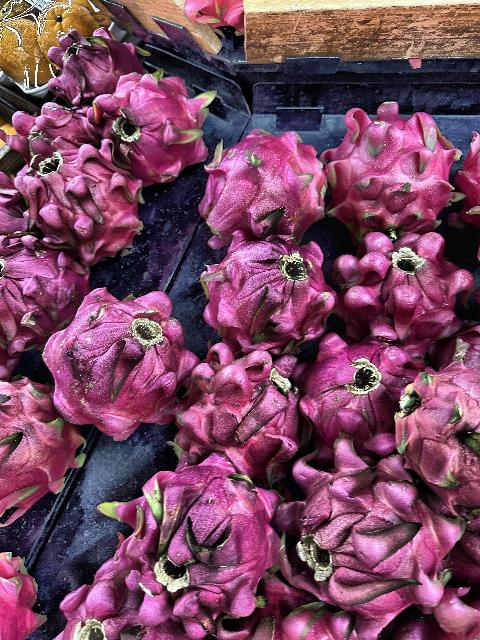buah-naga-matang: (280, 462, 466, 616), (114, 450, 272, 616), (50, 291, 192, 433), (326, 227, 480, 346), (321, 109, 461, 228), (193, 227, 328, 347), (188, 346, 298, 482), (13, 150, 153, 256), (0, 363, 90, 527), (203, 130, 325, 248), (303, 336, 419, 458), (87, 65, 211, 172), (400, 357, 480, 517), (0, 238, 92, 354), (43, 34, 145, 98), (6, 106, 103, 162)
